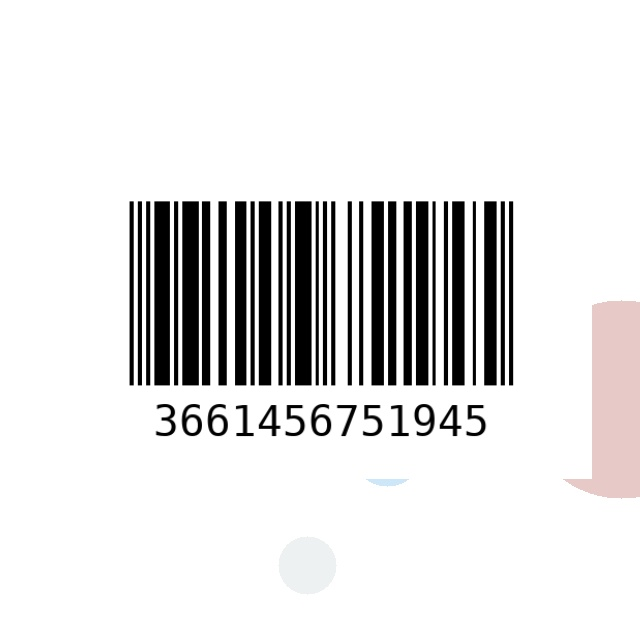barcode: (51, 190, 592, 479)
